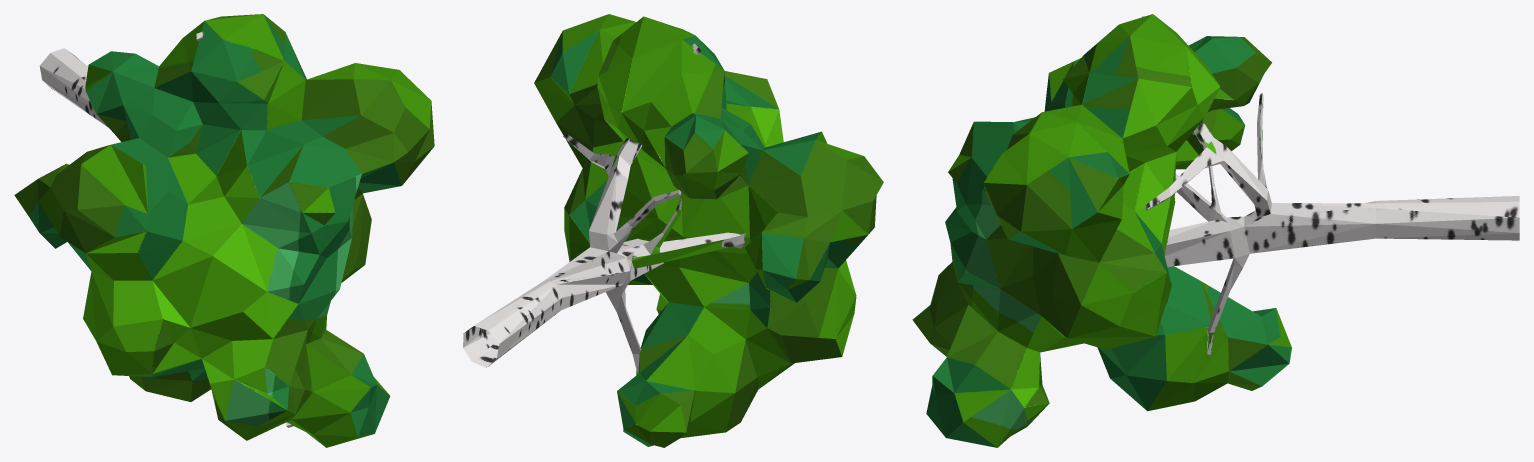
3 views of the same model, side by side, from view 1: azimuth 30°, elevation 25°; view 2: azimuth 150°, elevation 25°; view 3: azimuth 270°, elevation 25° (orthographic). The views are drawn at different scales.
Parts seen in each view (by area): view 1: _5_tree__5_tree_0; view 2: _5_tree__5_tree_0; view 3: _5_tree__5_tree_0.
Part boxes in pixels (x1,y1,x2,y2): _5_tree__5_tree_0: (14, 14, 434, 447); _5_tree__5_tree_0: (463, 14, 883, 447); _5_tree__5_tree_0: (912, 14, 1519, 447).
Bounding box in the file's own units: 4.56 × 4.9 × 6.67.
Materials: 1 (1 with a texture image).
